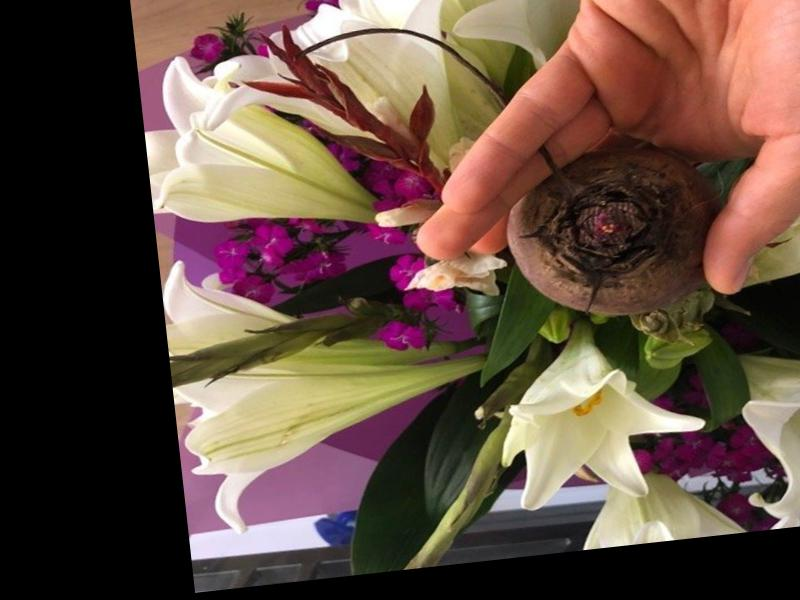Beet: (495, 133, 727, 328)
